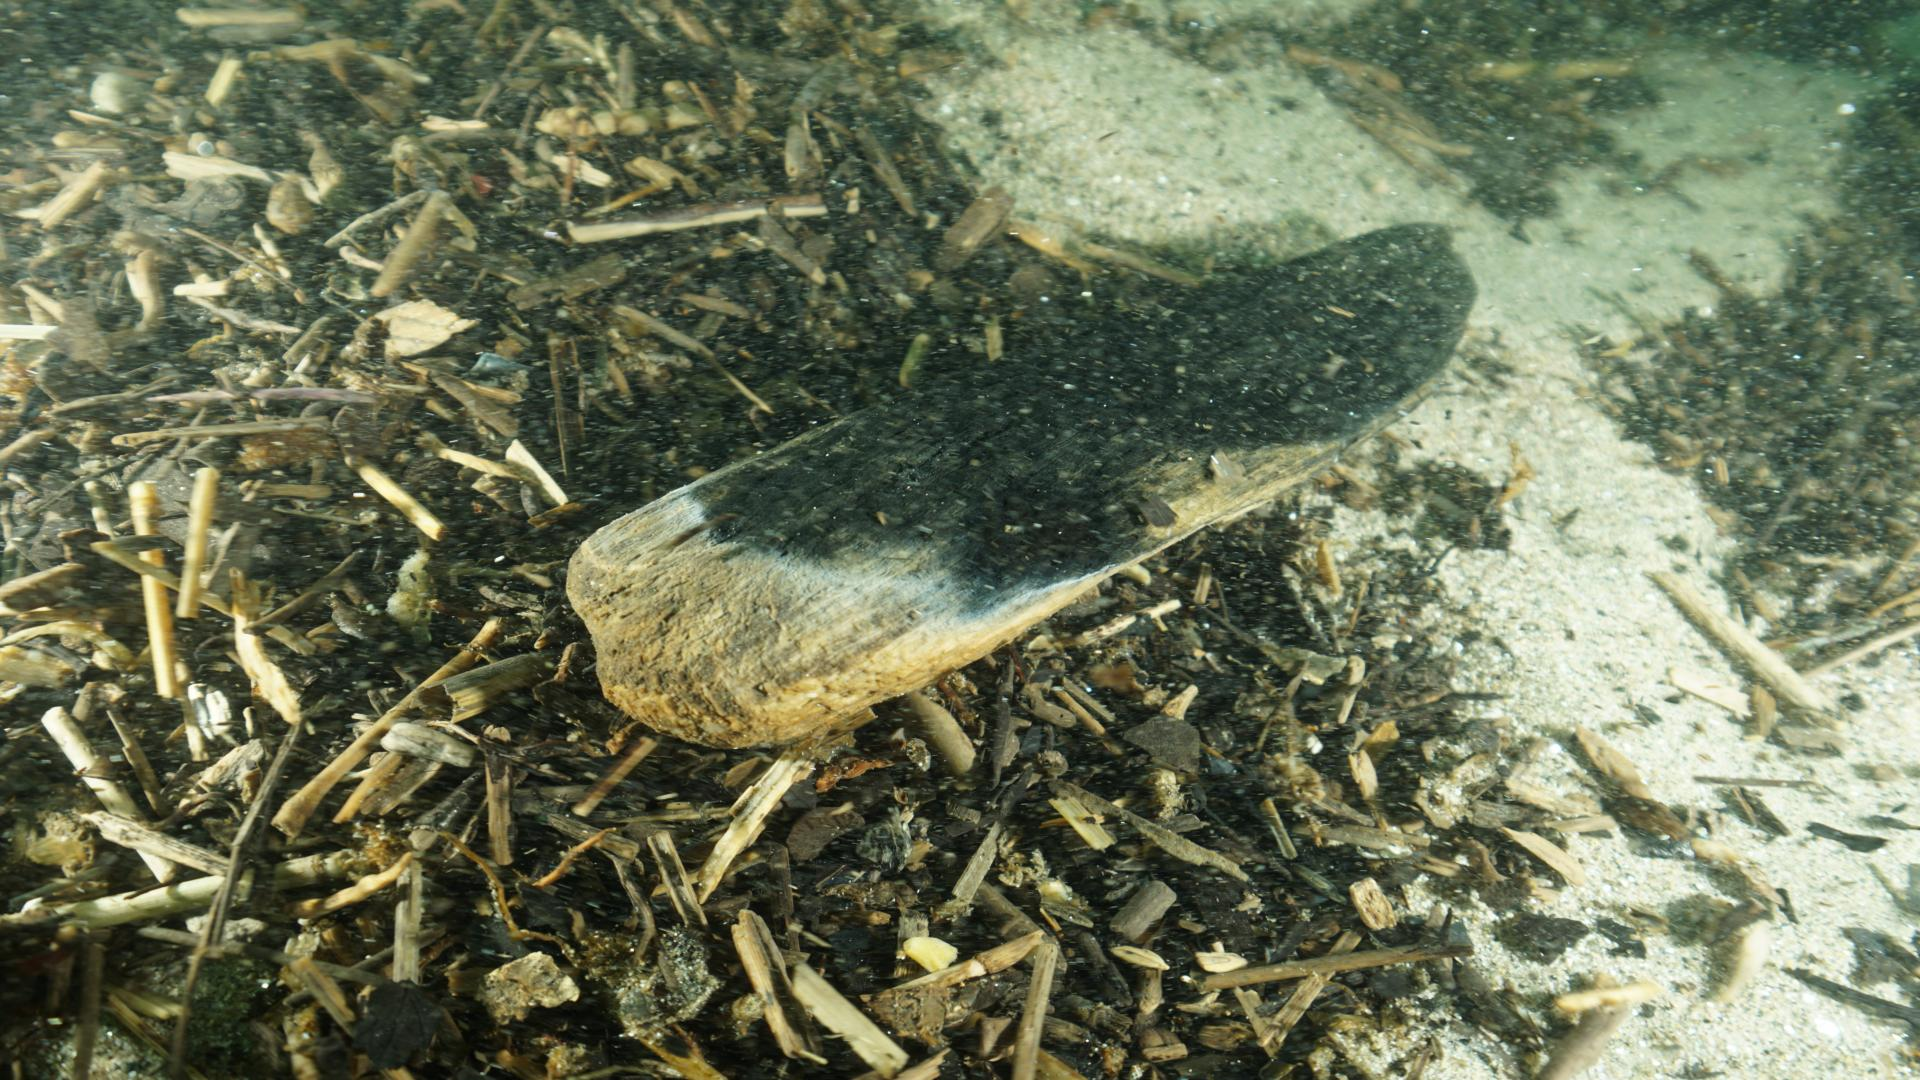wood: (562, 219, 1477, 742)
